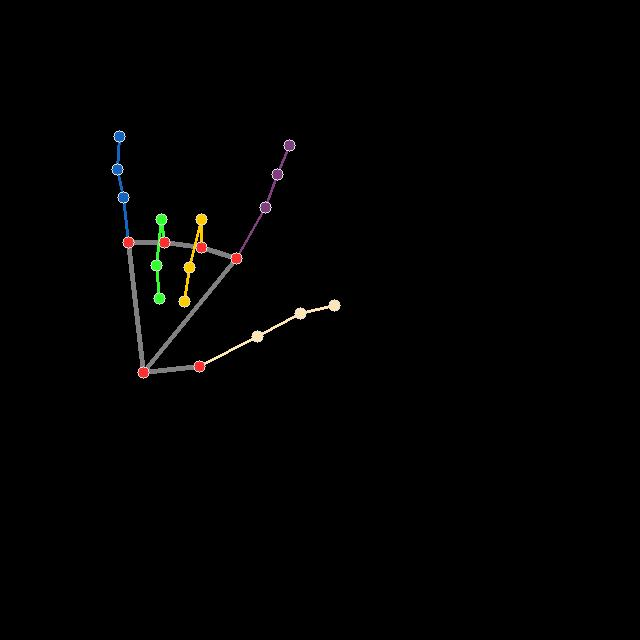spiderman: (111, 130, 340, 379)
